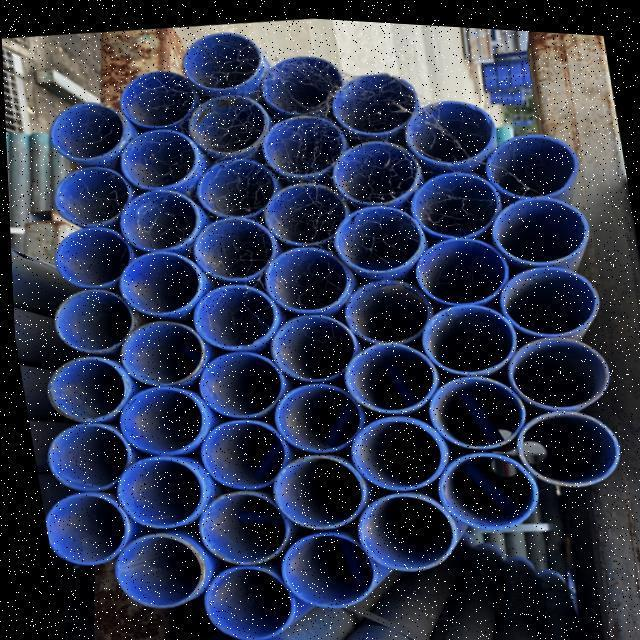pipe: (508, 324, 611, 408), (515, 401, 620, 482), (436, 444, 538, 526), (278, 527, 374, 614), (354, 485, 454, 567), (487, 120, 581, 200), (497, 253, 597, 327), (269, 447, 362, 524), (199, 561, 293, 636), (192, 411, 281, 490), (413, 228, 508, 302), (490, 186, 591, 255), (417, 299, 515, 370), (352, 411, 444, 486), (426, 373, 523, 444), (330, 196, 421, 271), (194, 488, 284, 563), (114, 452, 204, 525), (347, 338, 439, 409), (271, 378, 359, 450), (106, 534, 194, 606), (41, 492, 127, 565), (404, 91, 496, 159), (189, 277, 275, 349), (256, 179, 347, 247), (263, 307, 351, 377), (346, 271, 435, 339), (330, 133, 420, 200), (118, 382, 202, 452), (412, 164, 501, 230), (261, 240, 343, 311), (192, 349, 280, 415), (330, 66, 419, 130), (117, 248, 203, 314), (118, 317, 202, 384), (39, 420, 119, 490), (49, 284, 129, 353), (39, 353, 119, 421), (118, 183, 201, 247), (190, 214, 272, 278), (187, 90, 270, 152), (261, 111, 345, 172), (120, 125, 201, 188), (53, 224, 134, 286), (180, 29, 266, 87), (195, 152, 275, 214), (51, 164, 129, 227), (257, 50, 338, 109), (117, 68, 198, 126), (46, 103, 123, 163)
